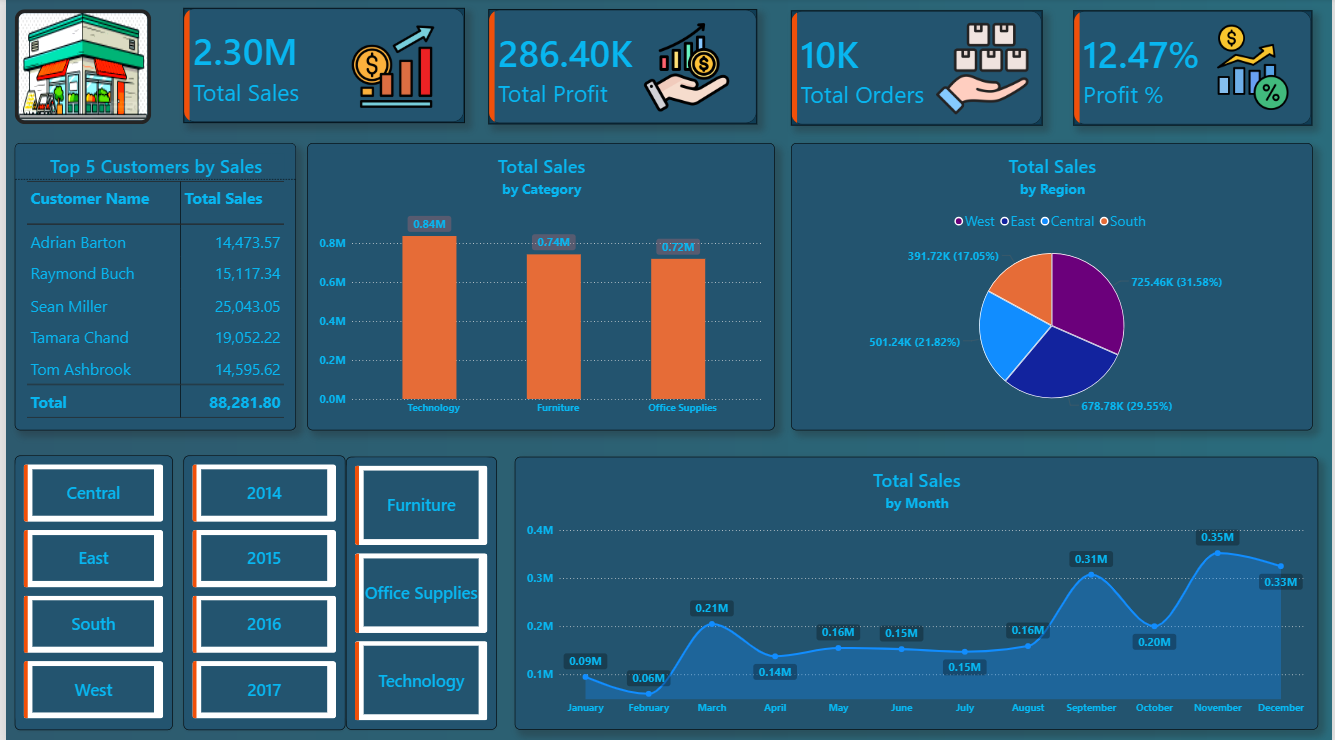

The dashboard page shown, as its layout file describes it:
{"tool":"powerbi","page":{"name":"Page 1","canvas":[1920,1080],"ordinal":0},"visuals":[{"type":"cardVisual","fields":{"Data":["Sample - Superstore.Total Profit"]},"box":[697.8,16.5,389,166.7],"z":0},{"type":"cardVisual","fields":{"Data":["Sample - Superstore.Total Orders"]},"box":[1136.2,18.5,364.3,166.7],"z":1000},{"type":"cardVisual","fields":{"Data":["Sample - Superstore.Profit %"]},"box":[1545.8,18.5,345.8,166.7],"z":2000},{"type":"cardVisual","fields":{"Data":["Sample - Superstore.Total Sales"]},"box":[257.3,14.4,407.5,166.7],"z":3000},{"type":"clusteredColumnChart","fields":{"Category":["Sample - Superstore.Category"],"Y":["Sample - Superstore.Total Sales"]},"box":[436.4,209.9,677.2,415.8],"z":4000},{"type":"pieChart","fields":{"Category":["Sample - Superstore.Region"],"Y":["Sample - Superstore.Total Sales"]},"box":[1136.2,209.9,755.4,415.8],"z":5000},{"type":"lineChart","fields":{"Category":["Sample - Superstore.Order Date.Variation.Date Hierarchy.Month"],"Y":["Sample - Superstore.Total Sales"]},"box":[736.9,664.8,1163,395.2],"z":6000},{"type":"image","box":[12.3,16.5,197.6,166.7],"z":7000},{"type":"image","box":[491.9,39.1,135.8,119.4],"z":8000},{"type":"image","box":[918,35,135.8,131.7],"z":9000},{"type":"image","box":[1344.1,35,137.9,135.8],"z":10000},{"type":"image","box":[1739.3,35,131.7,131.7],"z":11000},{"type":"advancedSlicerVisual","fields":{"Values":["Sample - Superstore.Region"]},"box":[12.3,662.8,228.5,397.3],"z":12000},{"type":"advancedSlicerVisual","fields":{"Values":["Sample - Superstore.Category"]},"box":[491.9,664.8,218.2,395.2],"z":13000},{"type":"advancedSlicerVisual","fields":{"Values":["Sample - Superstore.Order Date.Variation.Date Hierarchy.Year"]},"box":[257.3,662.8,234.6,397.3],"z":14000},{"type":"tableEx","title":"Top 5 Customers by Sales","fields":{"Values":["Sample - Superstore.Customer Name","Sample - Superstore.Total Sales"]},"box":[12.3,209.9,407.5,415.8],"z":14001}]}

Visuals, with their boxes in screenshot pixels (x1, y1, x2, y2), scaled from the page's 1920x1080 canvas onto the 1335x740 screenshot:
cardVisual - Sample - Superstore.Total Profit: <bbox>485, 11, 756, 126</bbox>
cardVisual - Sample - Superstore.Total Orders: <bbox>790, 13, 1043, 127</bbox>
cardVisual - Sample - Superstore.Profit %: <bbox>1075, 13, 1315, 127</bbox>
cardVisual - Sample - Superstore.Total Sales: <bbox>179, 10, 462, 124</bbox>
clusteredColumnChart - Sample - Superstore.Category x Sample - Superstore.Total Sales: <bbox>303, 144, 774, 429</bbox>
pieChart - Sample - Superstore.Region x Sample - Superstore.Total Sales: <bbox>790, 144, 1315, 429</bbox>
lineChart - Sample - Superstore.Order Date.Variation.Date Hierarchy.Month x Sample - Superstore.Total Sales: <bbox>512, 456, 1321, 726</bbox>
image: <bbox>9, 11, 146, 126</bbox>
image: <bbox>342, 27, 436, 109</bbox>
image: <bbox>638, 24, 733, 114</bbox>
image: <bbox>935, 24, 1030, 117</bbox>
image: <bbox>1209, 24, 1301, 114</bbox>
advancedSlicerVisual - Sample - Superstore.Region: <bbox>9, 454, 167, 726</bbox>
advancedSlicerVisual - Sample - Superstore.Category: <bbox>342, 456, 494, 726</bbox>
advancedSlicerVisual - Sample - Superstore.Order Date.Variation.Date Hierarchy.Year: <bbox>179, 454, 342, 726</bbox>
"Top 5 Customers by Sales" tableEx: <bbox>9, 144, 292, 429</bbox>
